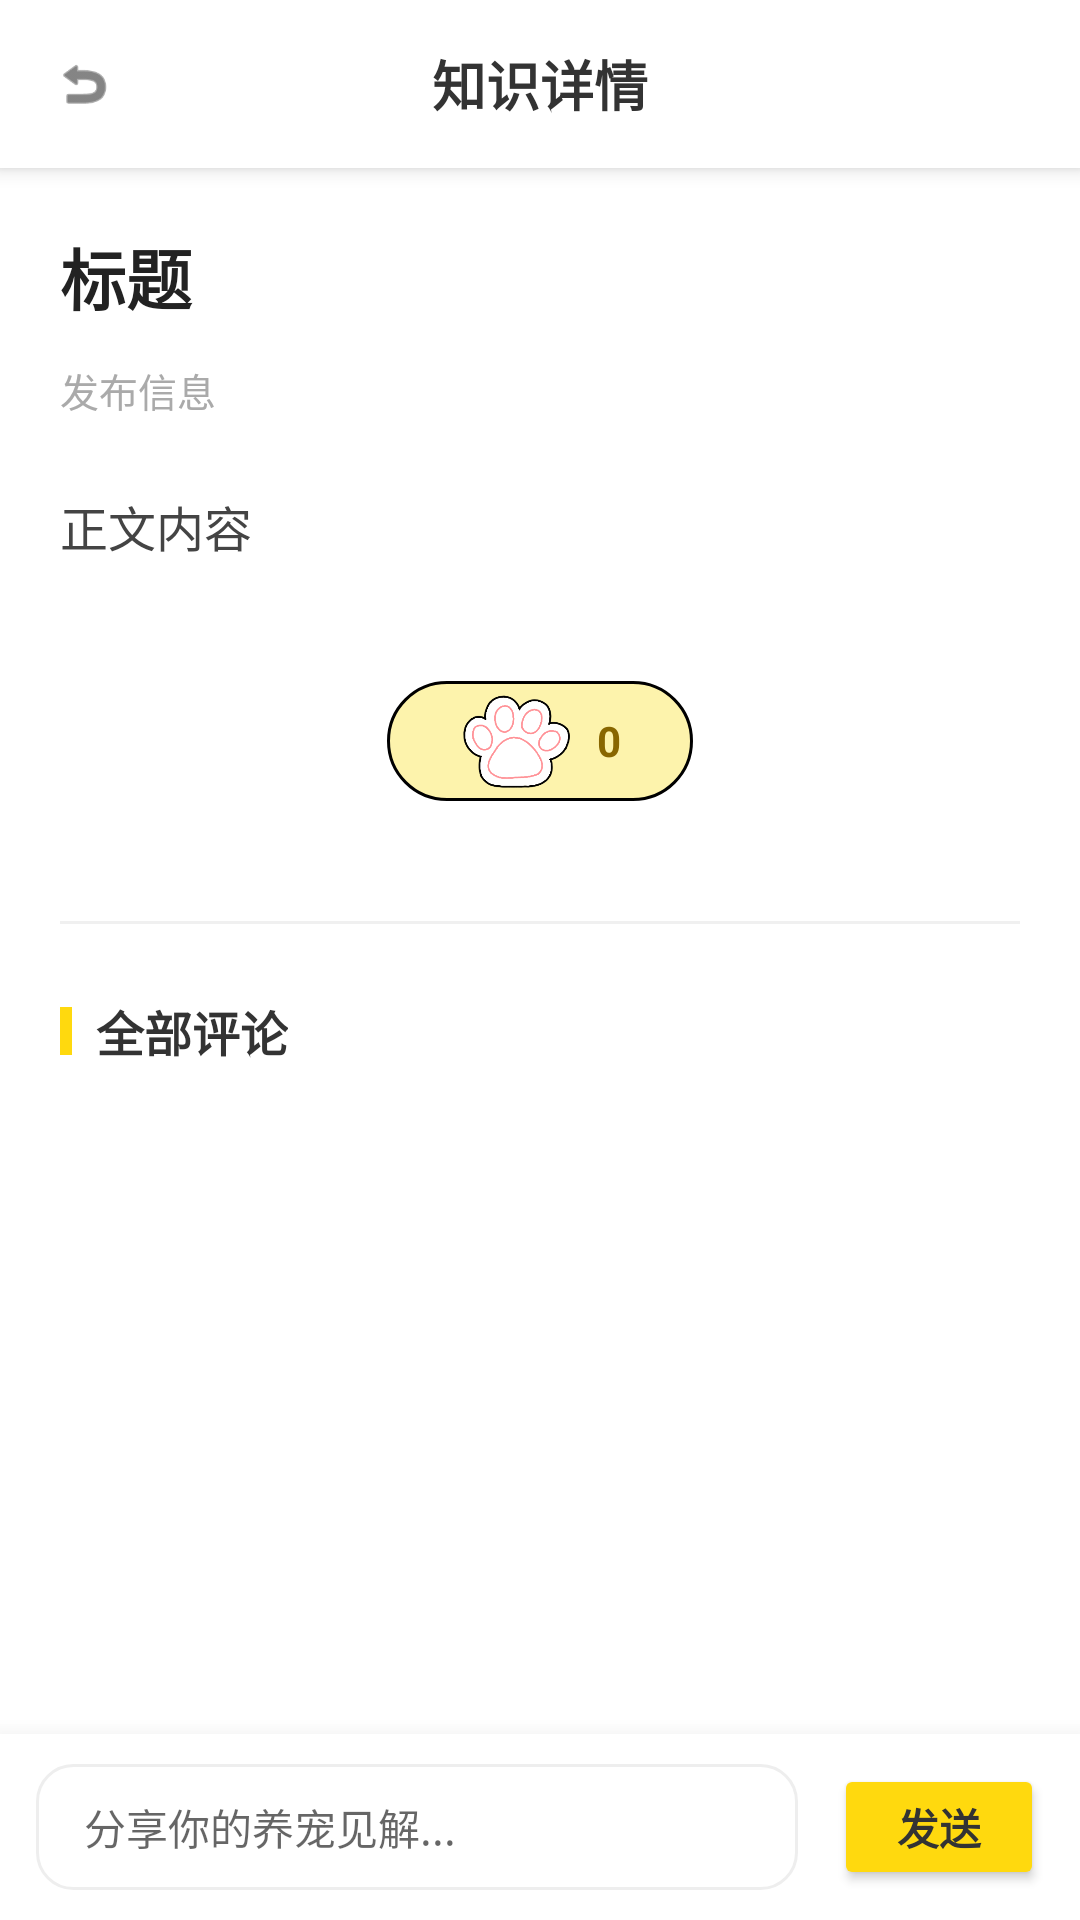

Locate icon controls on the screen. Image size 1080 × 1920, boxes as bbox(x1, y1, x2, y2).
like: bbox(463, 695, 570, 788)
revert: bbox(63, 65, 106, 104)
